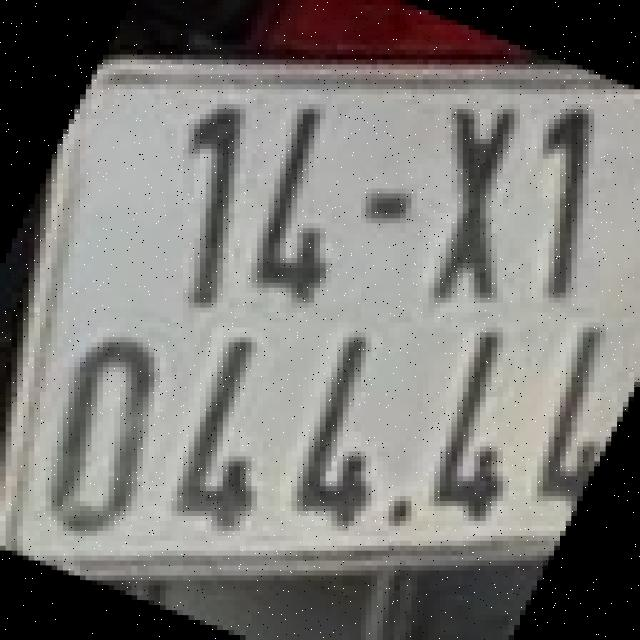0: (43, 335, 157, 533)
1: (174, 104, 243, 308), (534, 107, 597, 300)
4: (171, 330, 263, 533), (292, 330, 377, 528), (252, 102, 332, 305), (432, 325, 512, 523), (534, 325, 603, 513)
X: (434, 104, 514, 303)
